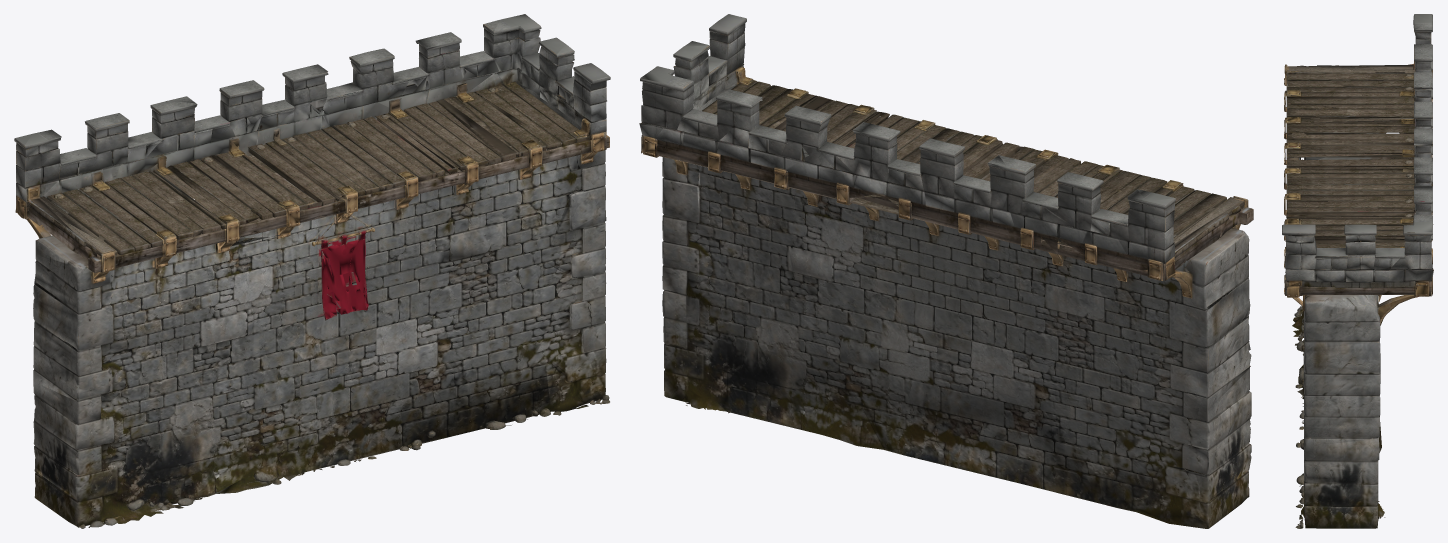
Rendered from cas-wall.glb.
The picture shows the model from 3 angles, left to right: view 1: azimuth 30°, elevation 25°; view 2: azimuth 150°, elevation 25°; view 3: azimuth 270°, elevation 25°; orthographic projection. The views are drawn at different scales.
Size of the model in its own units: 0.9565 by 0.5767 by 0.27.
Materials: 1 (1 with a texture image).
